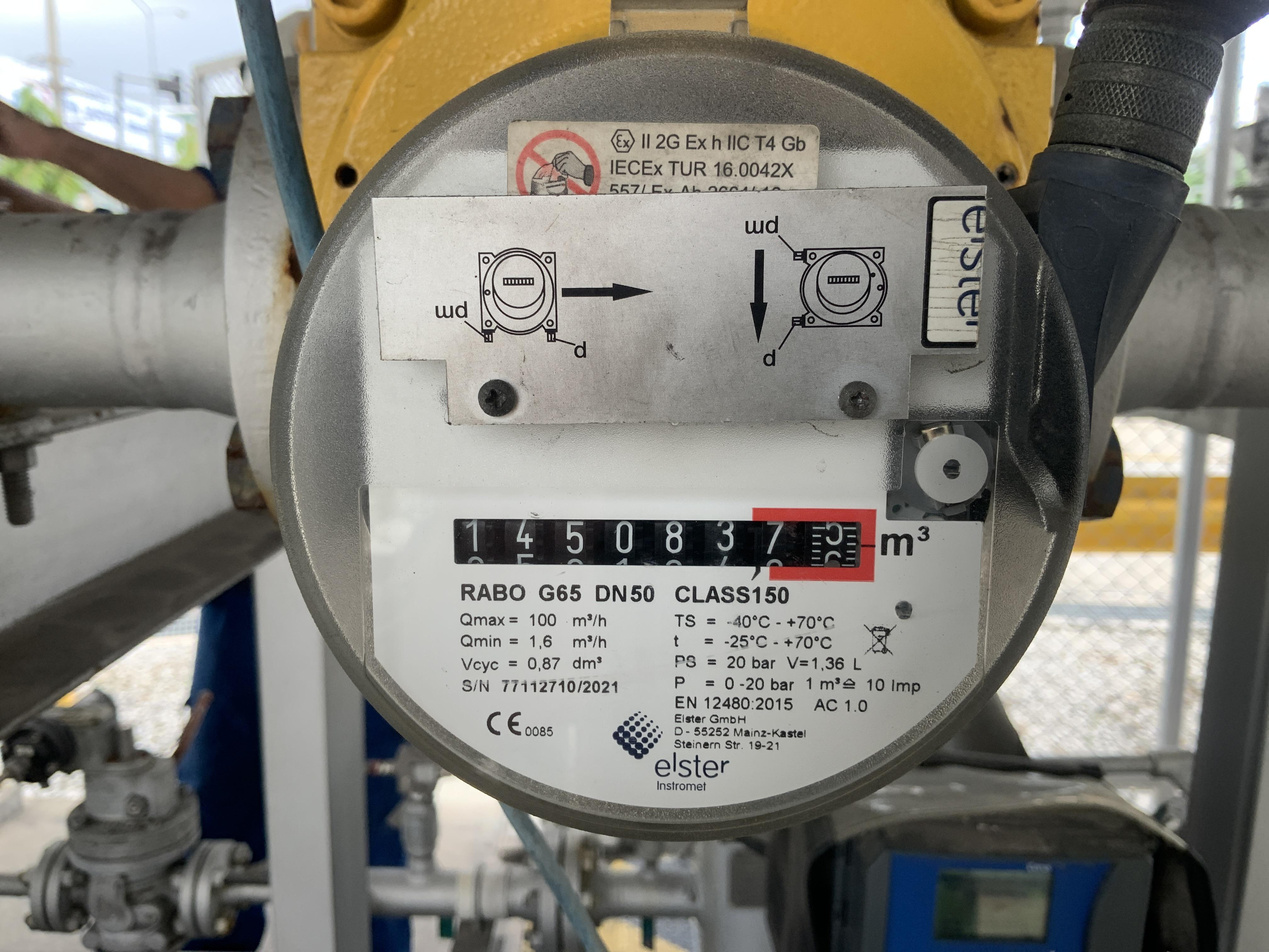analog_dial: (445, 501, 882, 584)
